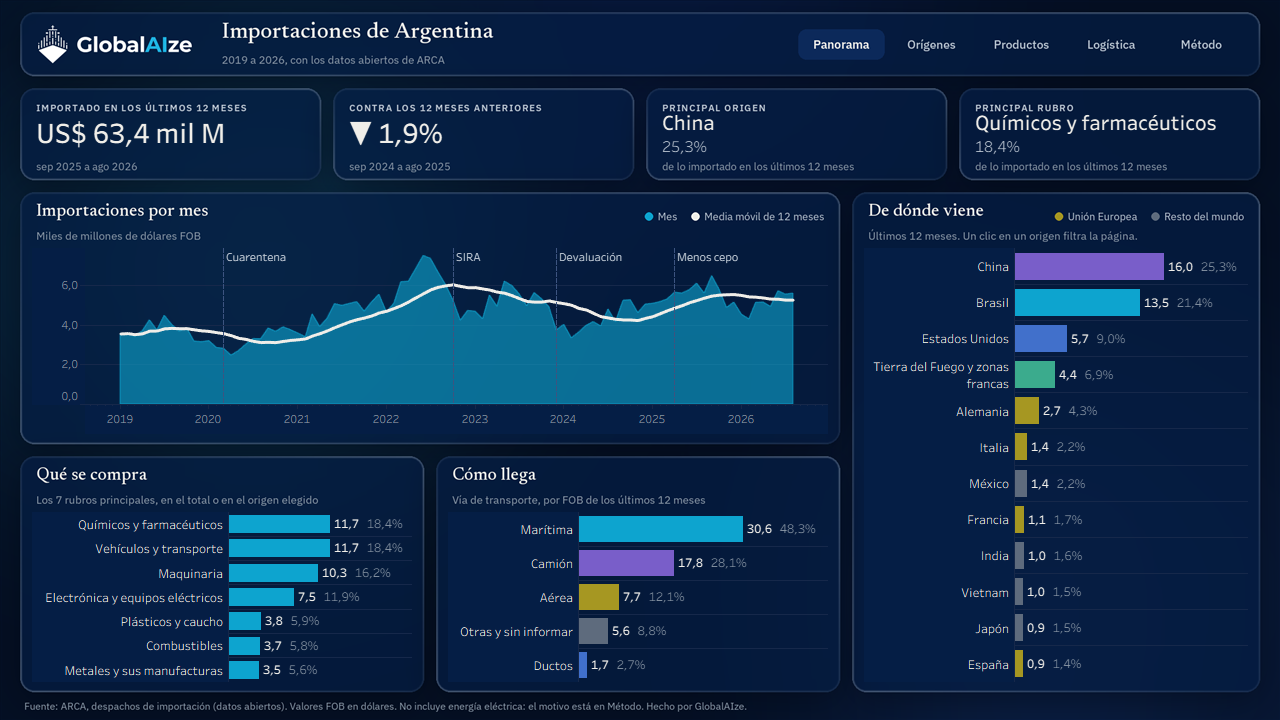

The page's visual inventory and layout, read from the dashboard file:
{"tool":"tableau","page":{"name":"Panorama","canvas":[1280,720],"ordinal":0},"visuals":[{"type":"image","param":"fondos/panorama.png","box":[0,0,1280,720]},{"type":"dashboard-object","box":[888,29,86,30]},{"type":"dashboard-object","box":[978,29,86,30]},{"type":"dashboard-object","box":[1068,29,86,30]},{"type":"dashboard-object","box":[1158,29,86,30]},{"type":"worksheet","title":"KPI importado","mark":"Text","box":[32,109,277,52]},{"type":"worksheet","title":"KPI variación","mark":"Text","box":[345,109,277,52]},{"type":"worksheet","title":"KPI origen","mark":"Text","box":[658,109,277,52]},{"type":"worksheet","title":"KPI rubro","mark":"Text","box":[971,109,277,52]},{"type":"worksheet","title":"Evolución mensual","mark":"Automatic","rows":["c_fob_mm","c_mm12"],"cols":["Fecha"],"box":[32,248,796,186]},{"type":"worksheet","title":"Principales orígenes","mark":"Bar","rows":["País de origen"],"cols":["c_u12_mm"],"box":[864,248,384,434]},{"type":"worksheet","title":"Principales rubros","mark":"Bar","rows":["Rubro"],"cols":["c_u12_mm"],"box":[32,512,380,170]},{"type":"worksheet","title":"Vías de transporte","mark":"Bar","rows":["Vía (grupo)"],"cols":["c_u12_mm"],"box":[448,512,380,170]}]}

Visuals, with their boxes in screenshot pixels (x1, y1, x2, y2), scaled from the page's 1280x720 canvas onto the 1280x720 screenshot:
image: region(0, 0, 1279, 719)
dashboard-object: region(888, 29, 974, 59)
dashboard-object: region(978, 29, 1064, 59)
dashboard-object: region(1068, 29, 1154, 59)
dashboard-object: region(1158, 29, 1244, 59)
"KPI importado" worksheet (Text marks): region(32, 109, 309, 161)
"KPI variación" worksheet (Text marks): region(345, 109, 622, 161)
"KPI origen" worksheet (Text marks): region(658, 109, 935, 161)
"KPI rubro" worksheet (Text marks): region(971, 109, 1248, 161)
"Evolución mensual" worksheet: region(32, 248, 828, 434)
"Principales orígenes" worksheet (Bar marks): region(864, 248, 1248, 682)
"Principales rubros" worksheet (Bar marks): region(32, 512, 412, 682)
"Vías de transporte" worksheet (Bar marks): region(448, 512, 828, 682)
